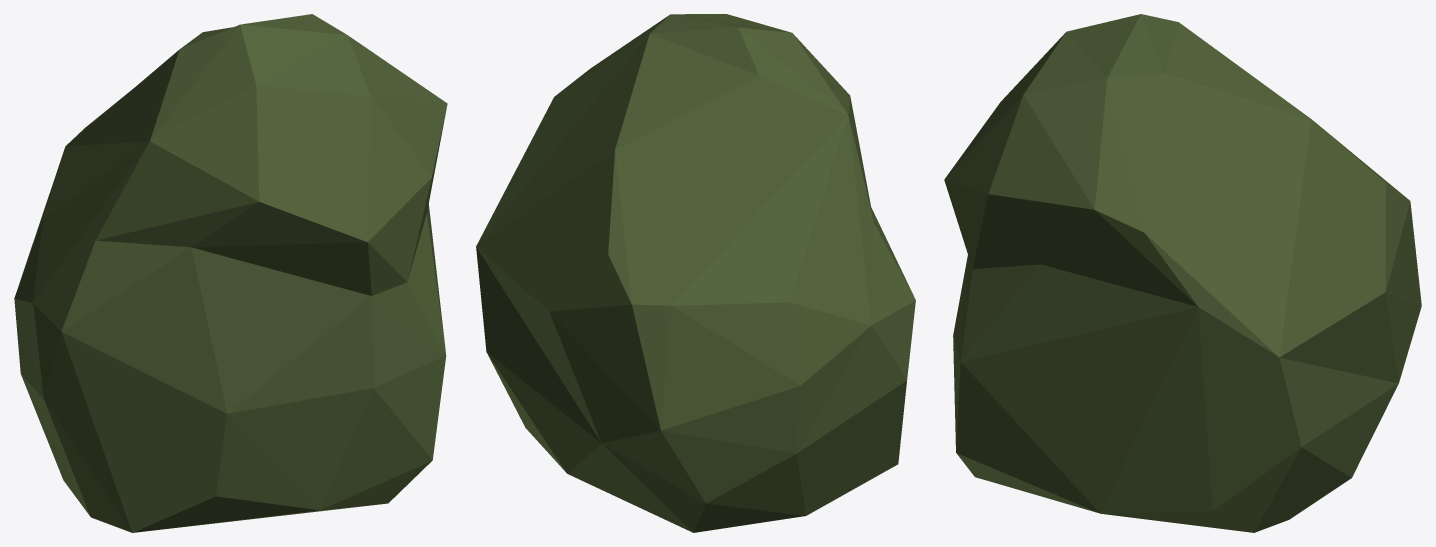
File: SM_Env_Bush_03.fbx
The picture shows the model from 3 angles, left to right: view 1: azimuth 30°, elevation 25°; view 2: azimuth 150°, elevation 25°; view 3: azimuth 270°, elevation 25°; orthographic projection. The views are drawn at different scales.
Visible parts, largest first — view 1: SM_Env_Bush_03; view 2: SM_Env_Bush_03; view 3: SM_Env_Bush_03.
Boxes of the visible parts, x1,y1,x2,y2 form: SM_Env_Bush_03: [14, 14, 447, 532]; SM_Env_Bush_03: [476, 14, 915, 532]; SM_Env_Bush_03: [944, 14, 1421, 532].
Bounding box in the file's own units: 134 × 149 × 137.
